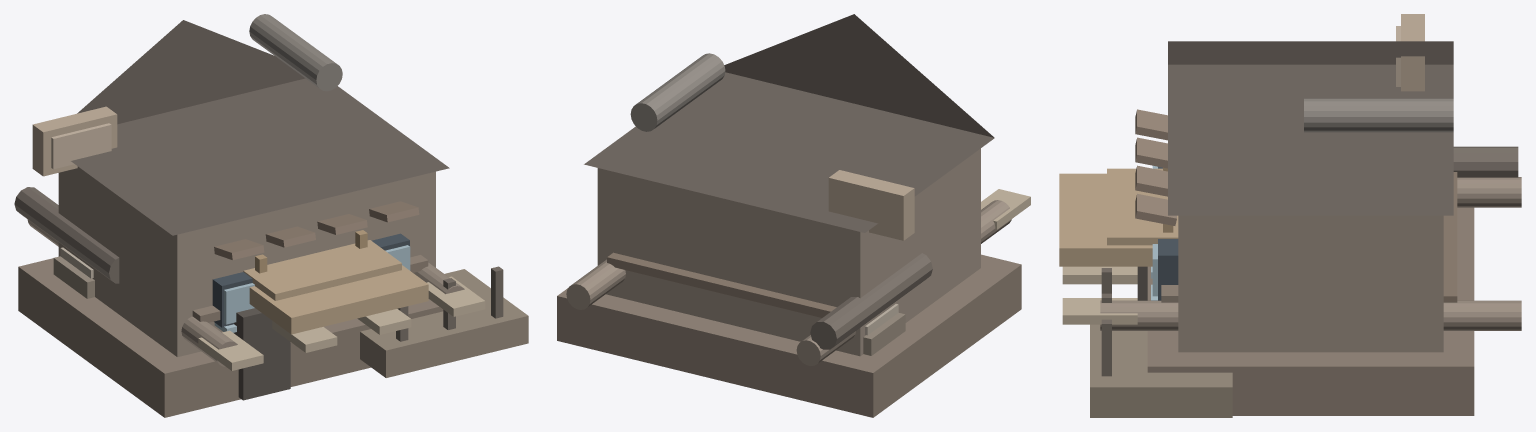
Rendered from coffee_shop.glb.
3 renders of one model, left to right at view 1: azimuth 30°, elevation 25°; view 2: azimuth 150°, elevation 25°; view 3: azimuth 270°, elevation 25°, orthographic. The views are drawn at different scales.
Parts seen in each view (by area): view 1: world; view 2: world; view 3: world.
Part boxes in pixels (bbox=[...]): world: bbox=[14, 14, 528, 417]; world: bbox=[557, 14, 1030, 417]; world: bbox=[1059, 14, 1521, 417].
Size of the model in its own units: 1.31 by 0.9934 by 1.36.
